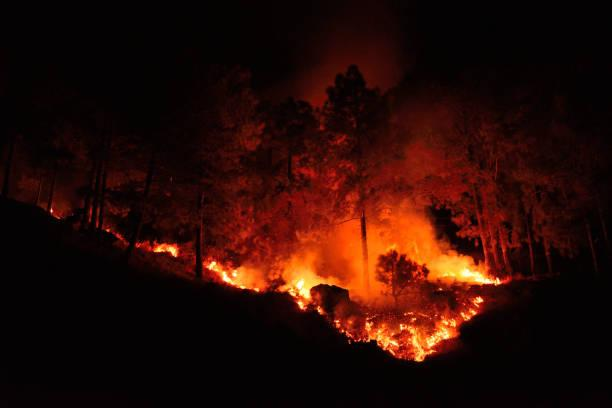Fire: (441, 259, 491, 287), (289, 270, 321, 298), (219, 262, 259, 284)
